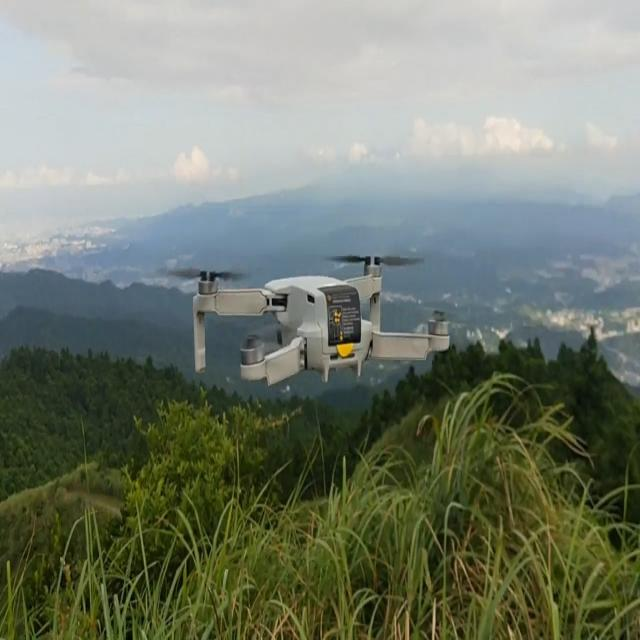Drone: (191, 234, 534, 424)
